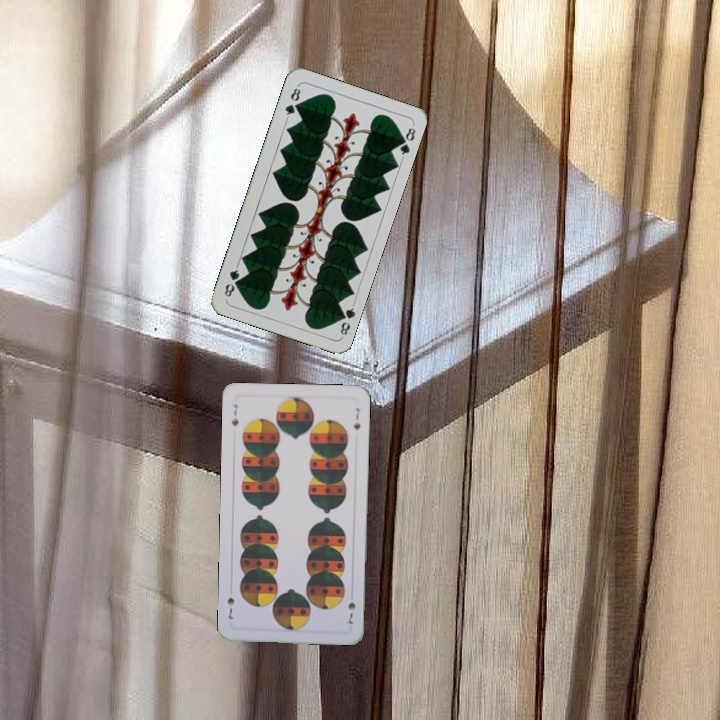G8: (334, 300, 358, 339), (281, 82, 303, 121)
S7: (344, 598, 358, 627), (228, 400, 241, 429)
